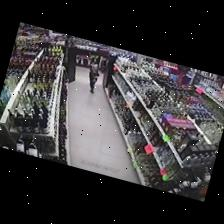person: (89, 60, 99, 93)
